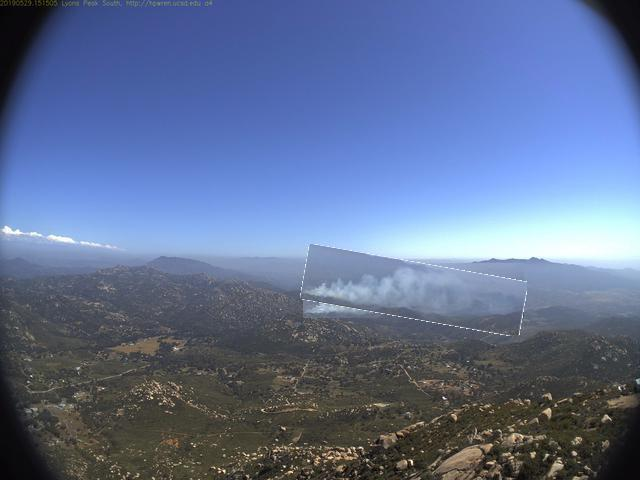smoke: (303, 255, 528, 329)
